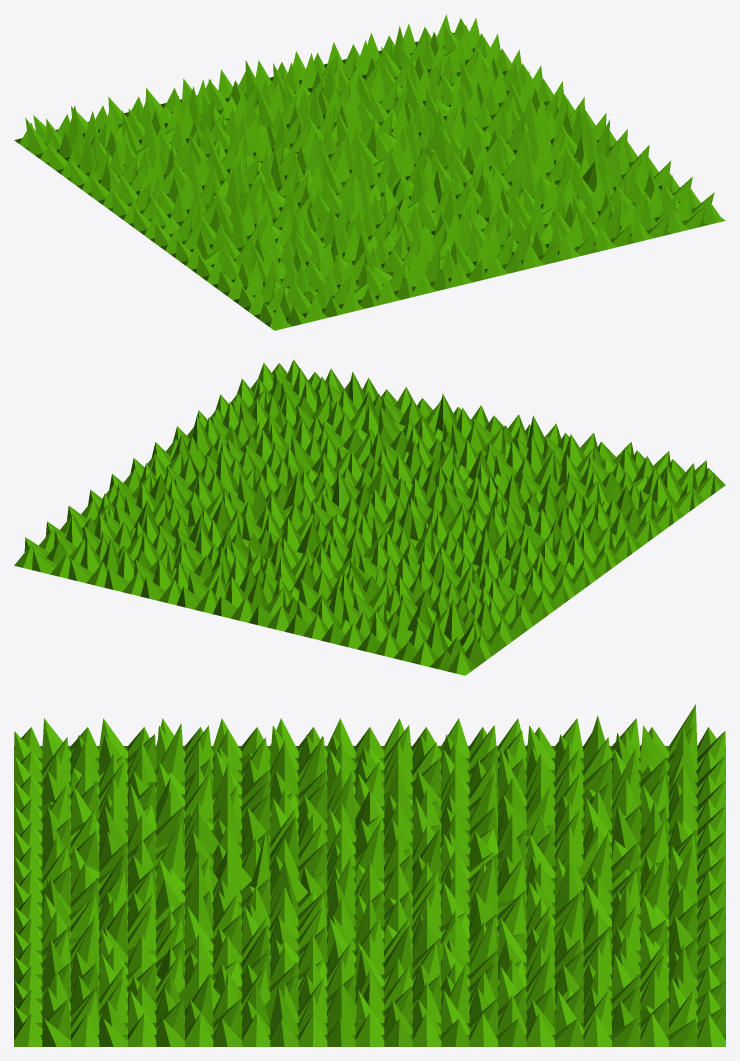
File: травка2.fbx
3 renders of one model, top to bottom at view 1: azimuth 30°, elevation 25°; view 2: azimuth 150°, elevation 25°; view 3: azimuth 270°, elevation 25°, orthographic. The views are drawn at different scales.
Visible parts, largest first — view 1: Plane.002; view 2: Plane.002; view 3: Plane.002.
Part boxes in pixels (x1=…): Plane.002: x1=14, y1=14, x2=725, y2=330; Plane.002: x1=14, y1=359, x2=725, y2=675; Plane.002: x1=14, y1=704, x2=725, y2=1046.
Size of the model in its own units: 100 by 10.47 by 100.
